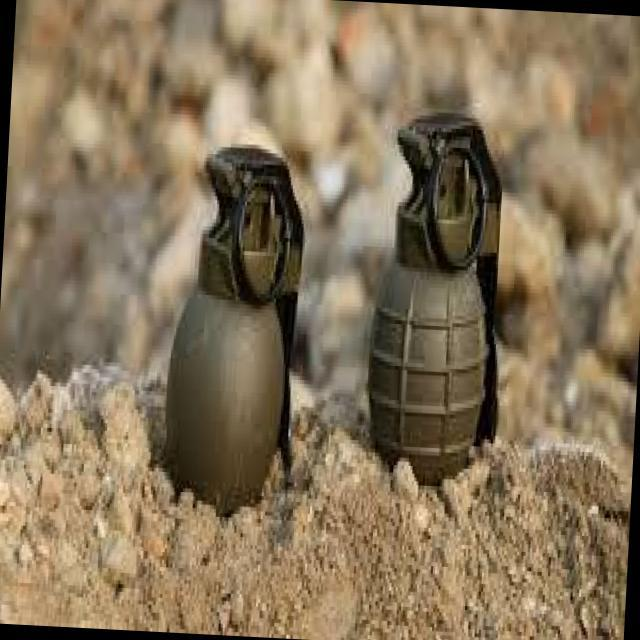grenade: (155, 131, 311, 515), (362, 104, 512, 491)
